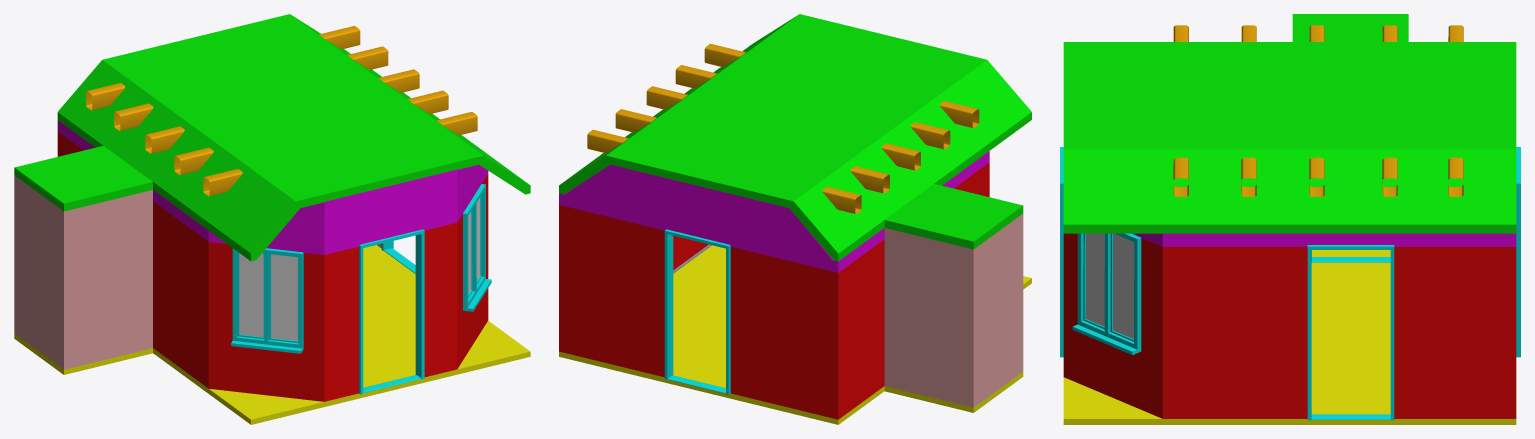
The model's file is FloorPlan516_physics.fbx.
3 renders of one model, left to right at view 1: azimuth 30°, elevation 25°; view 2: azimuth 150°, elevation 25°; view 3: azimuth 270°, elevation 25°, orthographic. The views are drawn at different scales.
Visible parts, largest first — view 1: FP516:Ceiling_1, FP516:Walls_4, FP516:Walls_2, FP516:Floor_1, FP516:Ceiling_2, WindowPane_1, FP516:WindowFrame_2, FP516:DoorFrame_3, FP516:WindowFrame_1, FP516:Beam_1, FP516:Beam_2, FP516:Beam_3 (+4 smaller); view 2: FP516:Ceiling_1, FP516:Walls_4, FP516:Walls_2, FP516:Floor_1, FP516:Ceiling_2, FP516:DoorFrame_1, FP516:Beam_1, FP516:Beam_2, FP516:Beam_3, FP516:Beam_4, FP516:Beam_5, FP516:Floor_2; view 3: FP516:Ceiling_1, FP516:Walls_4, FP516:Floor_1, FP516:WindowPane_1, FP516:WindowFrame_1, FP516:Ceiling_2, FP516:DoorFrame_4, FP516:DoorFrame_1, FP516:DoorFrame_3, FP516:Beam_2, FP516:Beam_4, FP516:Beam_3 (+5 smaller).
Boxes of the visible parts, x1,y1,x2,y2 form: FP516:Ceiling_1: [57, 14, 530, 261]; FP516:Walls_4: [57, 120, 488, 401]; FP516:Walls_2: [14, 175, 152, 369]; FP516:Floor_1: [153, 245, 530, 424]; FP516:Ceiling_2: [14, 146, 152, 211]; WindowPane_1: [239, 253, 297, 340]; FP516:WindowFrame_2: [231, 248, 303, 353]; FP516:DoorFrame_3: [359, 229, 424, 394]; FP516:WindowFrame_1: [463, 184, 491, 311]; FP516:Beam_1: [203, 112, 477, 196]; FP516:Beam_2: [174, 90, 448, 174]; FP516:Beam_3: [145, 69, 419, 153]; FP516:Ceiling_1: [559, 14, 1031, 261]; FP516:Walls_4: [559, 151, 989, 419]; FP516:Walls_2: [884, 213, 1023, 407]; FP516:Floor_1: [559, 245, 1031, 424]; FP516:Ceiling_2: [884, 183, 1023, 249]; FP516:DoorFrame_1: [664, 229, 730, 394]; FP516:Beam_1: [704, 43, 979, 128]; FP516:Beam_2: [675, 65, 950, 149]; FP516:Beam_3: [646, 86, 920, 170]; FP516:Beam_4: [615, 109, 889, 193]; FP516:Beam_5: [587, 129, 861, 214]; FP516:Floor_2: [884, 372, 1023, 412]; FP516:Ceiling_1: [1063, 42, 1516, 233]; FP516:Walls_4: [1063, 233, 1516, 418]; FP516:Floor_1: [1063, 262, 1516, 424]; FP516:WindowPane_1: [1085, 233, 1134, 339]; FP516:WindowFrame_1: [1072, 233, 1141, 354]; FP516:Ceiling_2: [1292, 14, 1408, 41]; FP516:DoorFrame_4: [1307, 245, 1394, 420]; FP516:DoorFrame_1: [1516, 147, 1520, 357]; FP516:DoorFrame_3: [1060, 147, 1063, 357]; FP516:Beam_2: [1241, 25, 1256, 196]; FP516:Beam_4: [1382, 25, 1397, 196]; FP516:Beam_3: [1309, 25, 1324, 196].
Bounding box in the file's own units: 539 × 295 × 495.
